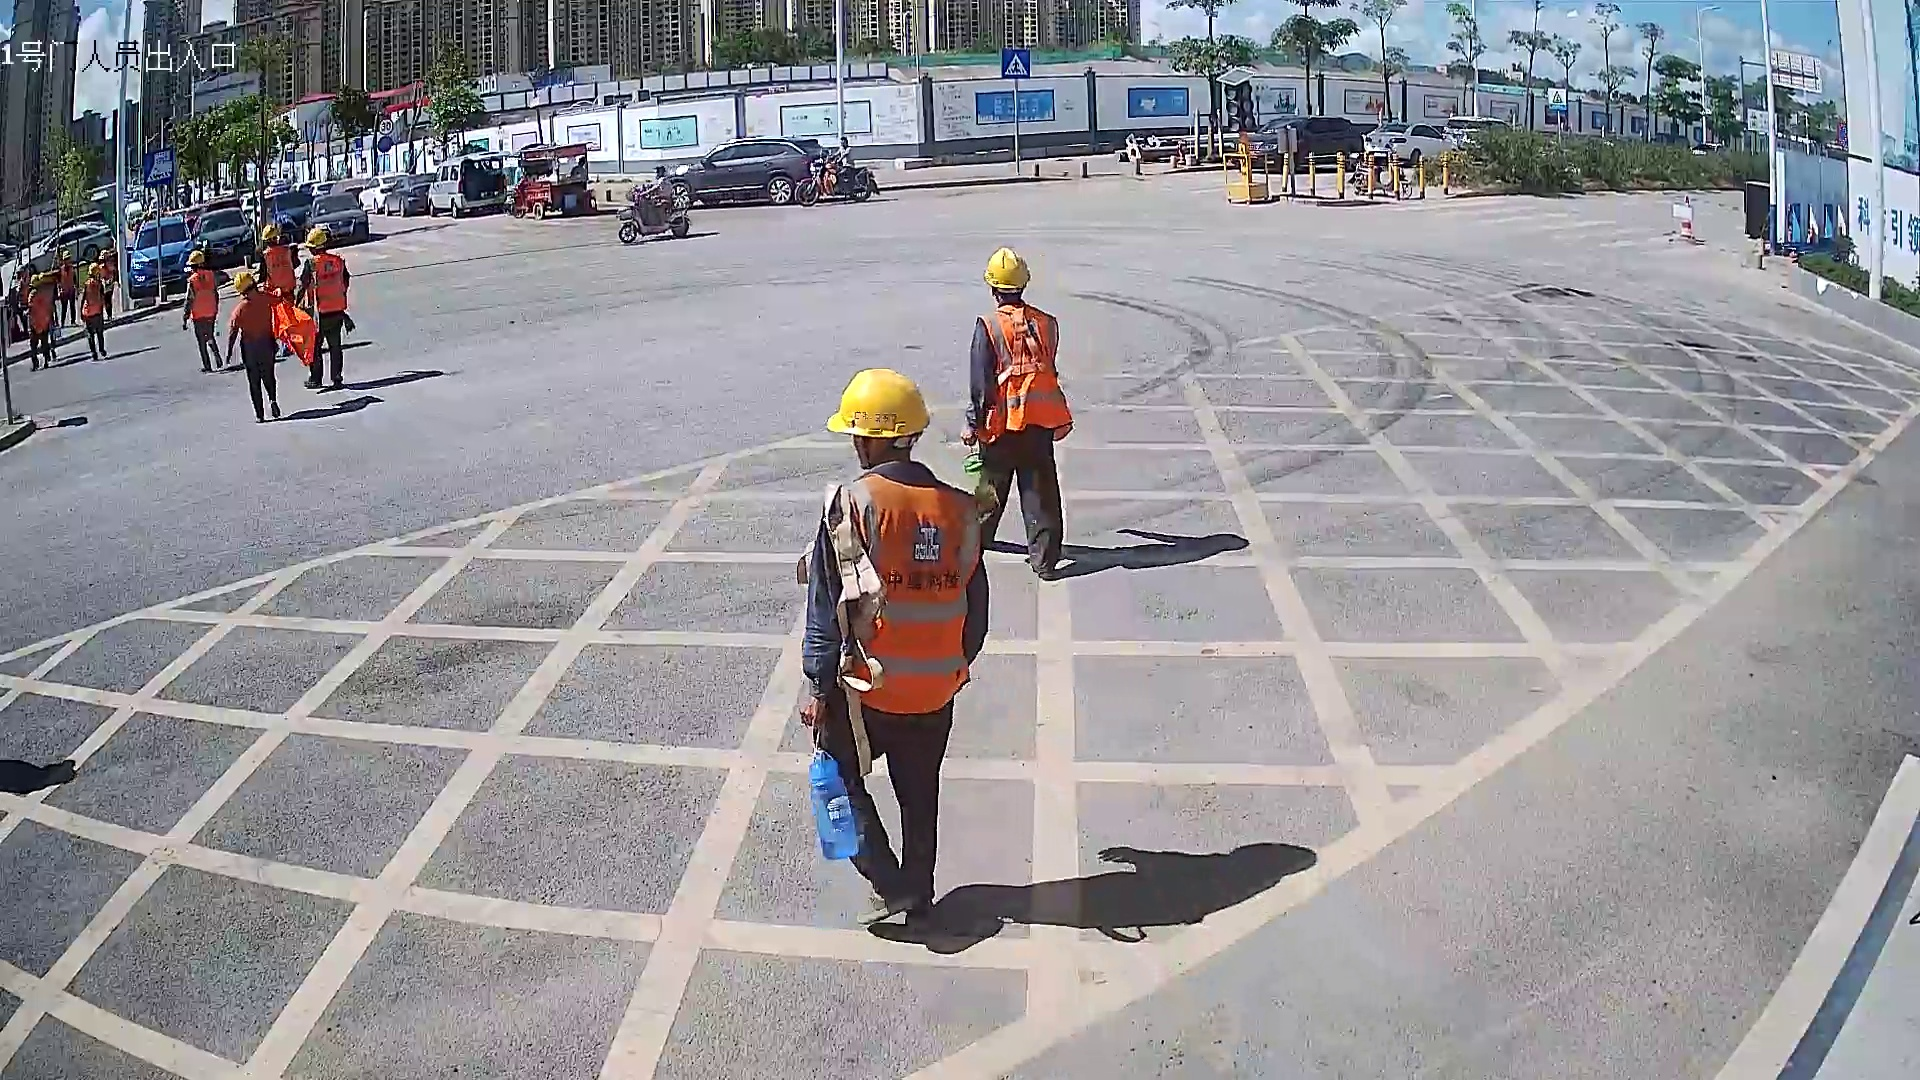ordinary_clothes: (236, 294, 278, 357)
person: (795, 363, 991, 935), (959, 239, 1076, 585), (295, 228, 351, 390), (225, 271, 282, 424), (181, 249, 224, 373), (79, 262, 109, 363), (260, 222, 302, 293), (25, 271, 51, 373), (56, 251, 80, 329)
reflective_vest: (830, 470, 986, 717), (971, 303, 1076, 445), (305, 253, 349, 314), (261, 245, 298, 291), (186, 269, 218, 319)
safety_helmet: (824, 363, 934, 472), (982, 241, 1032, 306), (233, 270, 259, 299), (303, 227, 327, 255), (184, 249, 206, 272), (260, 222, 280, 245), (86, 262, 102, 278)
